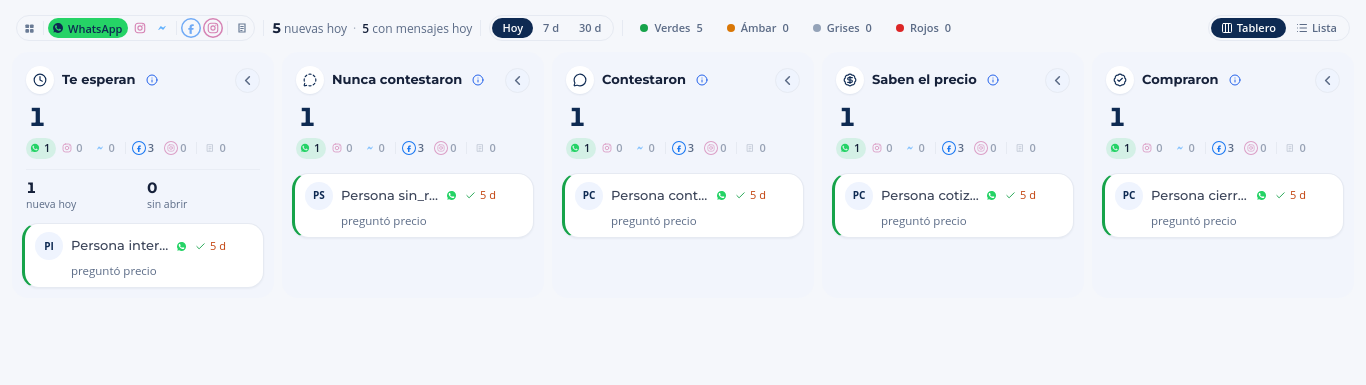
Test: VistaEmbudo — la fila de arriba › 🔴 con «Hoy» puesto y el desglose del rango, «Te esperan» dice los «sin abrir» DE HOY
The image size is (1366, 385).
Click the button "30 d" at (590, 28), box [569,18,611,38]
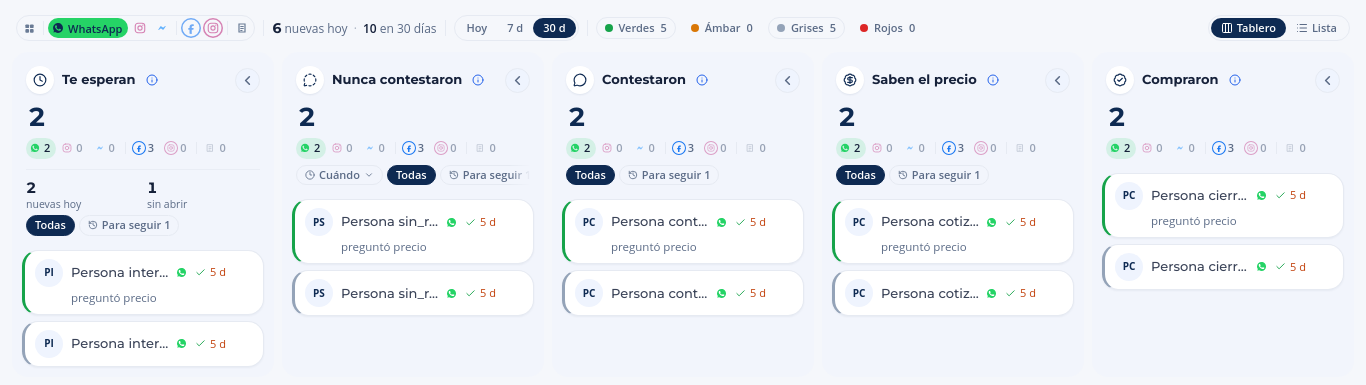
Now the header that starts with "Te esperan" reads "Te esperan 2 2 0 0 3 0 0 2 nuevas hoy 1 sin abrir Todas Para seguir 1", box [20,60,266,248]
